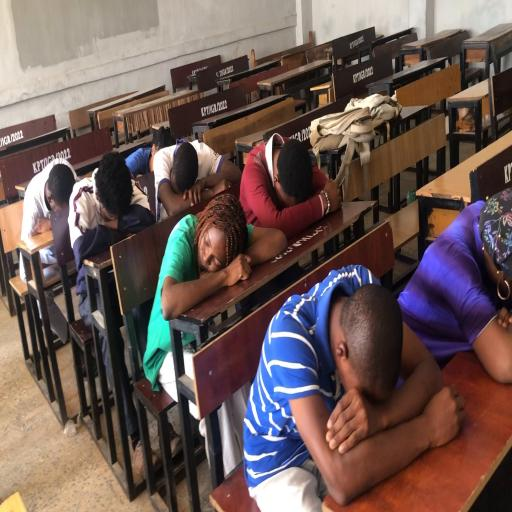Sleeping: (240, 201, 512, 506), (242, 264, 465, 506), (141, 198, 314, 436), (143, 188, 252, 388), (68, 152, 156, 282), (154, 140, 217, 221)
